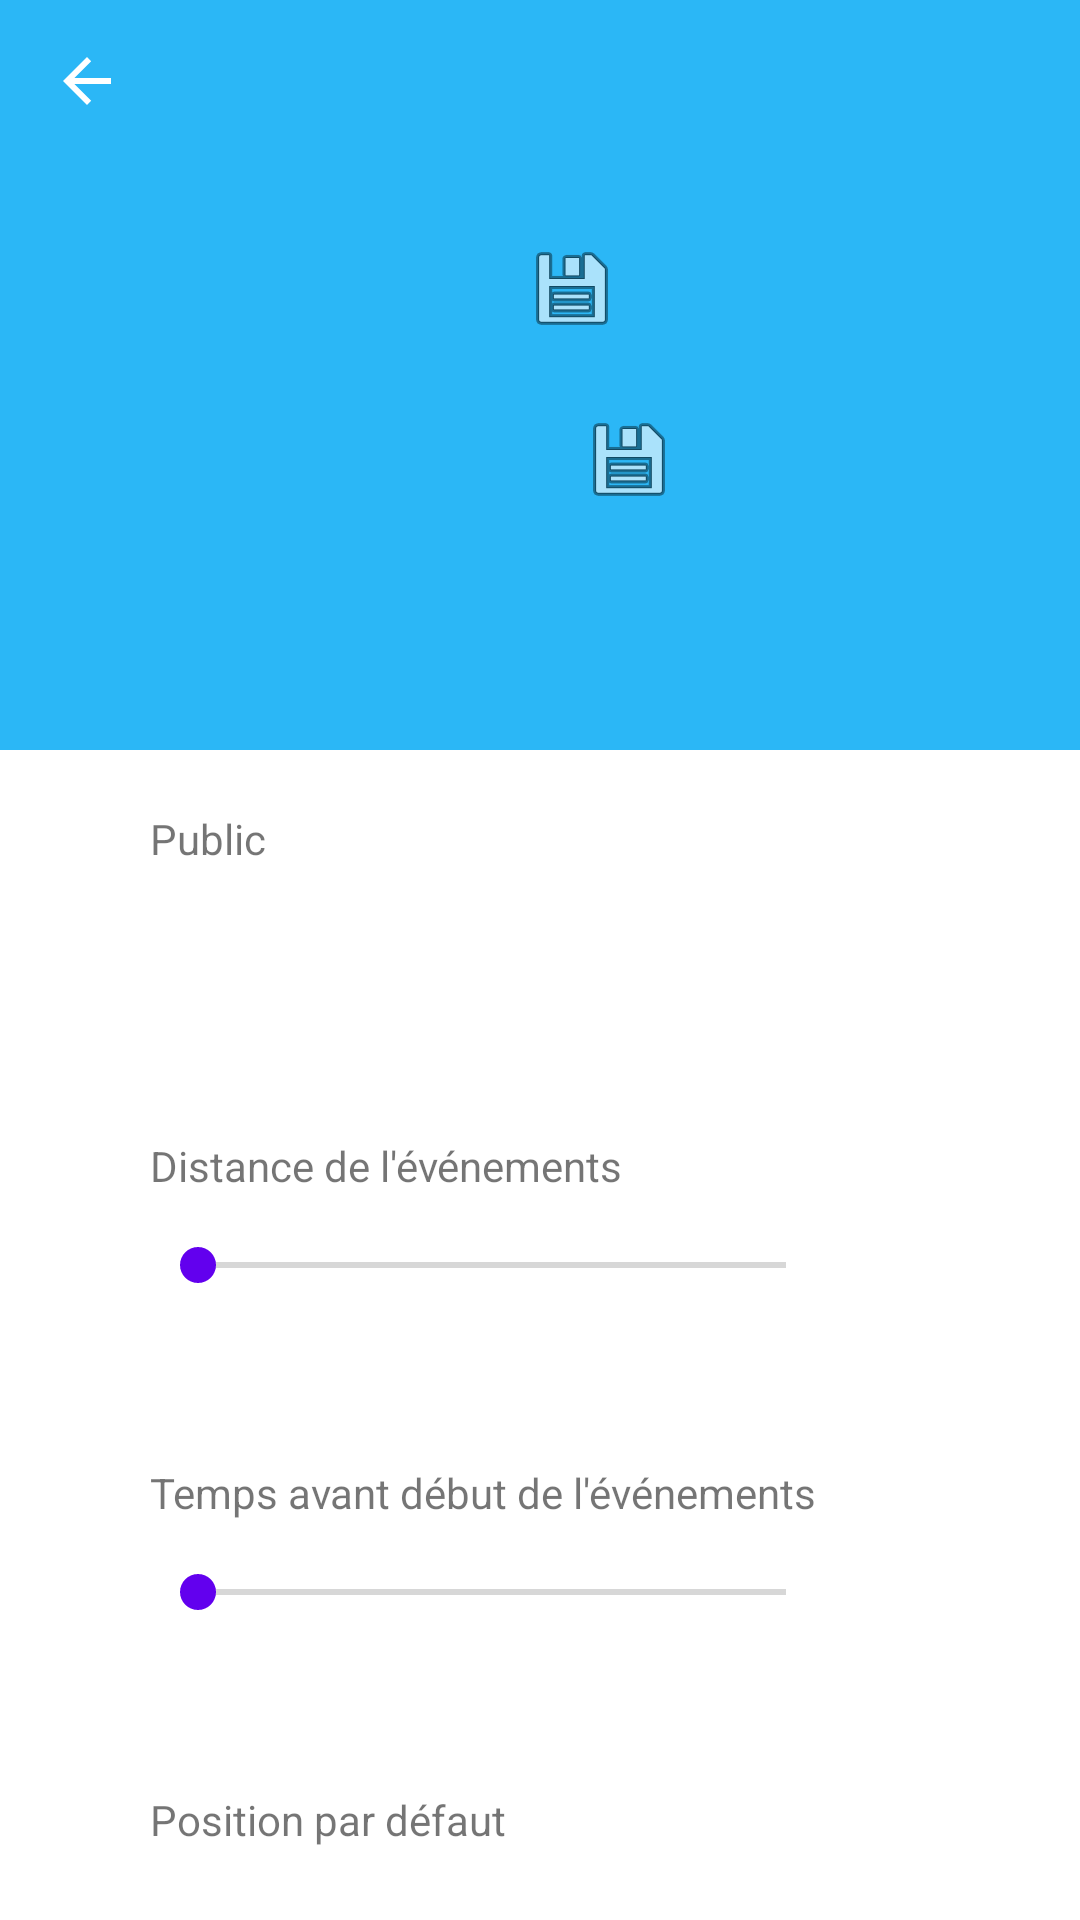

Icons on this 1080x1920 Android screen, each with its box as [left=x1, top=y1, right=x2, bottom=y2]:
save: [left=536, top=252, right=608, bottom=325], [left=593, top=423, right=665, bottom=496]
